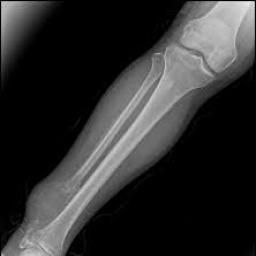cancer: (29, 177, 79, 223)
